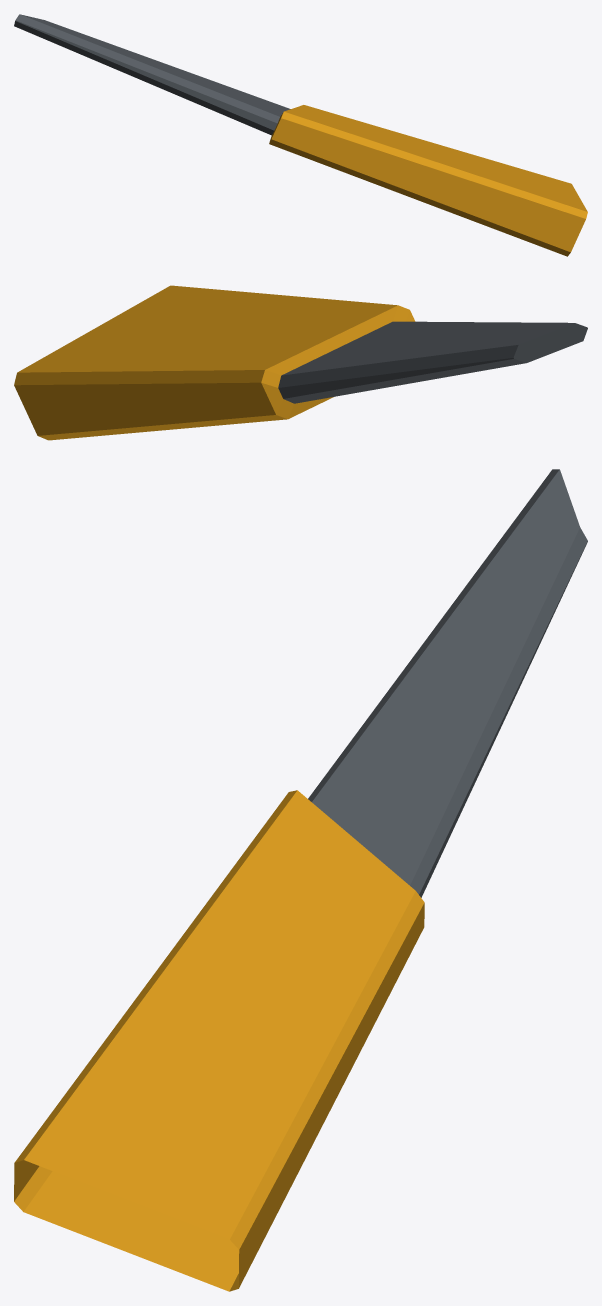
File: Dropship_05_Wing_Right_Yellow.fbx
The picture shows the model from 3 angles, top to bottom: view 1: azimuth 30°, elevation 25°; view 2: azimuth 150°, elevation 25°; view 3: azimuth 270°, elevation 25°; orthographic projection. The views are drawn at different scales.
Visible parts, largest first — view 1: Dropship_05_Wing_Right_Yellow; view 2: Dropship_05_Wing_Right_Yellow; view 3: Dropship_05_Wing_Right_Yellow.
Boxes of the visible parts, box(x1,y1,x2,y2) form: Dropship_05_Wing_Right_Yellow: box(14, 14, 587, 256); Dropship_05_Wing_Right_Yellow: box(14, 285, 587, 440); Dropship_05_Wing_Right_Yellow: box(14, 469, 587, 1291).
Size of the model in its own units: 452 by 234 by 274.
1 material, 1 textured.
